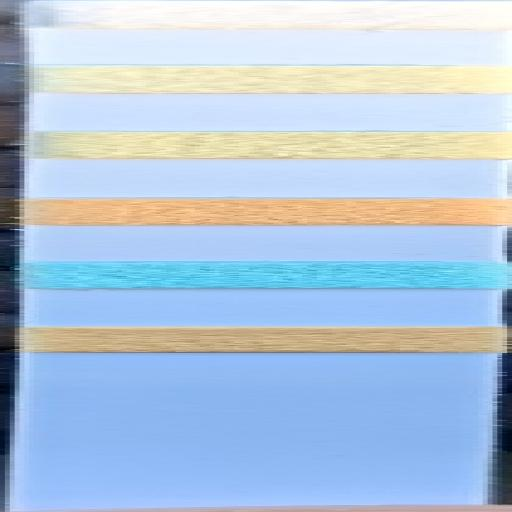pads: (0, 63, 512, 95), (0, 130, 512, 160), (12, 196, 512, 226), (0, 0, 512, 29), (0, 262, 512, 290), (0, 325, 512, 353)
